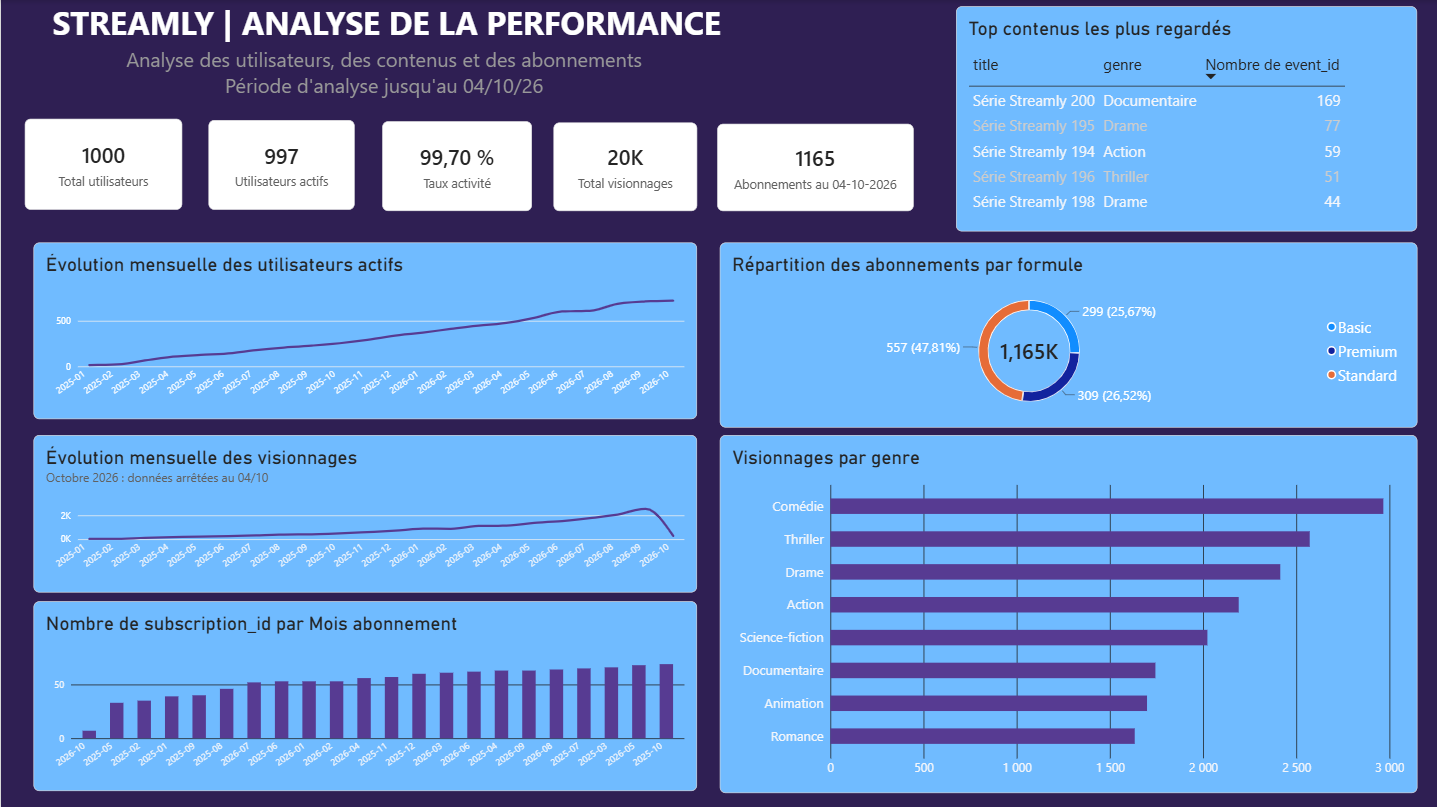

Layout of this report page (visuals, bound fields, positions):
{"tool":"powerbi","page":{"name":"Vue globale","canvas":[1920,1080],"ordinal":0},"visuals":[{"type":"textbox","box":[43.4,0,943.4,60.1],"z":0},{"type":"textbox","box":[93.5,60.1,836.6,80.1],"z":1000},{"type":"card","fields":{"Values":["public users.Total utilisateurs"]},"box":[31.7,158.6,210.4,121.9],"z":2000},{"type":"card","fields":{"Values":["public watch_events.Utilisateurs actifs"]},"box":[277.2,160.3,195.4,120.2],"z":3000},{"type":"card","fields":{"Values":["public users.Taux activité"]},"box":[509.3,162,200.4,120.2],"z":4000},{"type":"card","fields":{"Values":["public watch_events.Total visionnages"]},"box":[738,163.6,192,118.6],"z":5000},{"type":"card","fields":{"Values":["public subscriptions.Abonnements au 04-10-2026"]},"box":[956.8,165.3,262.2,116.9],"z":6000},{"type":"clusteredBarChart","title":"Visionnages par genre","fields":{"Category":["public contents.genre"],"Y":["Count(public watch_events.event_id)"]},"box":[960.2,580.3,931.8,478.2],"z":7000},{"type":"lineChart","title":"Évolution mensuelle des visionnages","fields":{"Category":["public watch_events.Mois visionnage"],"Y":["CountNonNull(public watch_events.event_id)"]},"box":[43.4,581.1,886.6,210.4],"z":8000},{"type":"lineChart","title":"Évolution mensuelle des utilisateurs actifs","fields":{"Category":["public watch_events.Mois visionnage"],"Y":["public watch_events.Utilisateurs actifs"]},"box":[43.5,323.2,886.5,236.3],"z":9000},{"type":"donutChart","title":"Répartition des abonnements par formule","fields":{"Category":["public subscriptions.plan"],"Y":["CountNonNull(public subscriptions.subscription_id)"]},"box":[960.1,323.9,931.7,247.1],"z":10000},{"type":"clusteredColumnChart","fields":{"Category":["public subscriptions.Mois abonnement"],"Y":["CountNonNull(public subscriptions.subscription_id)"]},"box":[43.4,803.2,886.6,253.8],"z":11000},{"type":"tableEx","title":"Top contenus les plus regardés","fields":{"Values":["public contents.title","public contents.genre","CountNonNull(public watch_events.event_id)"]},"box":[1275.8,7.6,616.2,300.5],"z":12000}]}

Visuals, with their boxes in screenshot pixels (x1, y1, x2, y2), scaled from the page's 1920x1080 canvas onto the 1437x807 screenshot:
textbox: pyautogui.locateOnScreen(32, 0, 739, 45)
textbox: pyautogui.locateOnScreen(70, 45, 696, 105)
card - public users.Total utilisateurs: pyautogui.locateOnScreen(24, 119, 181, 210)
card - public watch_events.Utilisateurs actifs: pyautogui.locateOnScreen(207, 120, 354, 210)
card - public users.Taux activité: pyautogui.locateOnScreen(381, 121, 531, 211)
card - public watch_events.Total visionnages: pyautogui.locateOnScreen(552, 122, 696, 211)
card - public subscriptions.Abonnements au 04-10-2026: pyautogui.locateOnScreen(716, 124, 912, 211)
"Visionnages par genre" clusteredBarChart: pyautogui.locateOnScreen(719, 434, 1416, 791)
"Évolution mensuelle des visionnages" lineChart: pyautogui.locateOnScreen(32, 434, 696, 591)
"Évolution mensuelle des utilisateurs actifs" lineChart: pyautogui.locateOnScreen(33, 242, 696, 418)
"Répartition des abonnements par formule" donutChart: pyautogui.locateOnScreen(719, 242, 1416, 427)
clusteredColumnChart - public subscriptions.Mois abonnement x CountNonNull(public subscriptions.subscription_id): pyautogui.locateOnScreen(32, 600, 696, 790)
"Top contenus les plus regardés" tableEx: pyautogui.locateOnScreen(955, 6, 1416, 230)
